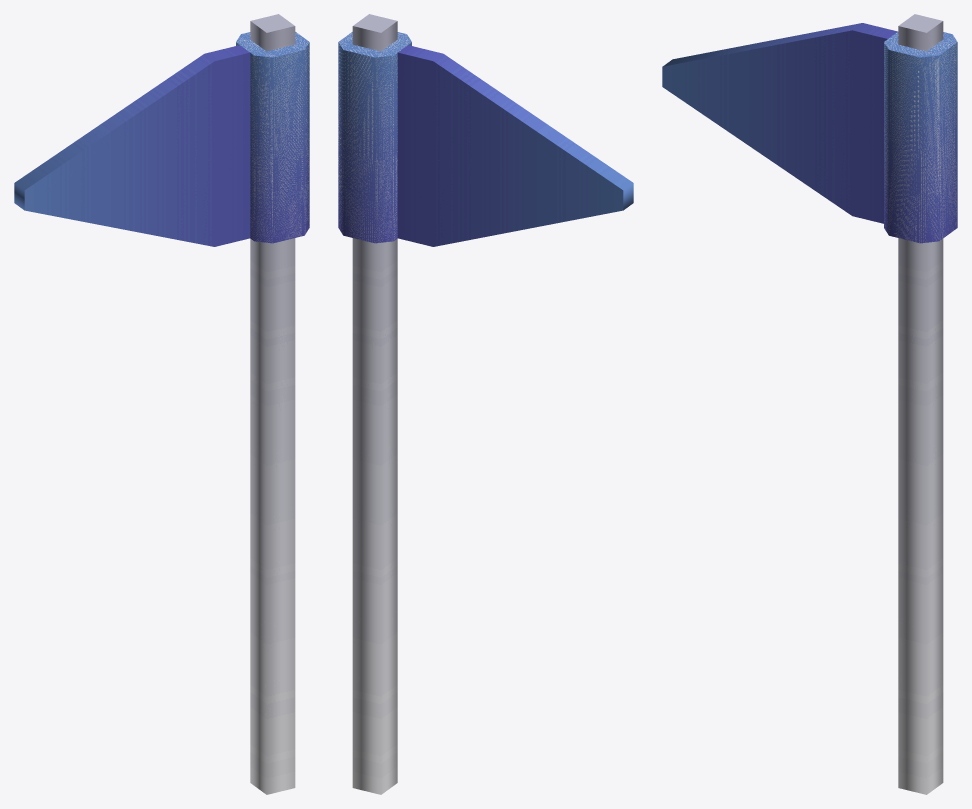
The model's file is flag-blue.glb.
3 views of the same model, side by side, from view 1: azimuth 30°, elevation 25°; view 2: azimuth 150°, elevation 25°; view 3: azimuth 330°, elevation 25° (orthographic).
Parts seen in each view (by area): view 1: flag-blue; view 2: flag-blue; view 3: flag-blue.
Boxes of the visible parts, x1,y1,x2,y2 form: flag-blue: (14, 14, 309, 794); flag-blue: (338, 14, 633, 794); flag-blue: (662, 14, 957, 794).
Bounding box in the file's own units: 0.3956 × 1.02 × 0.0781.
1 material, 1 textured.
